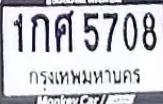0: (122, 12, 137, 51)
1: (12, 13, 22, 52)
5: (83, 12, 99, 51)
7: (102, 12, 117, 52)
8: (142, 11, 156, 50)
A01: (30, 13, 49, 52)
A38: (54, 9, 73, 52)
BKK: (24, 65, 142, 91)
